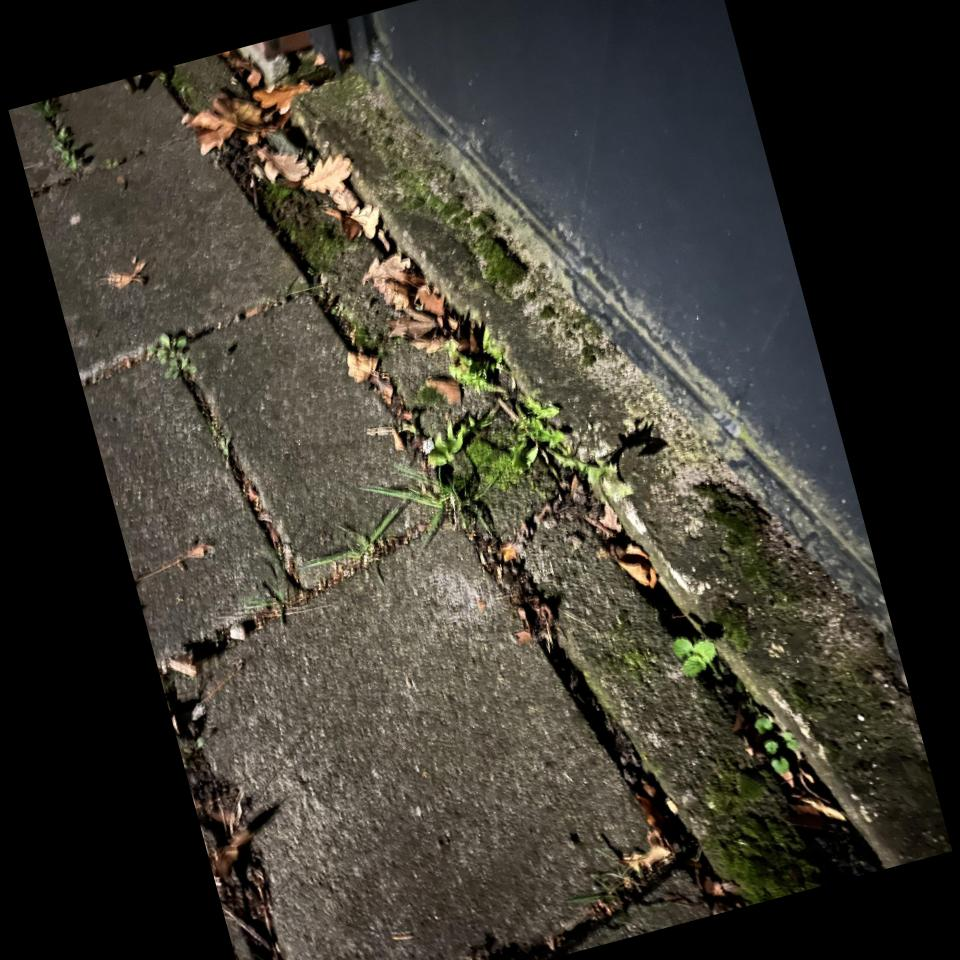weed: (363, 422, 495, 538), (512, 396, 576, 468), (30, 97, 80, 171), (448, 342, 500, 391), (147, 333, 195, 379), (673, 637, 715, 677)
